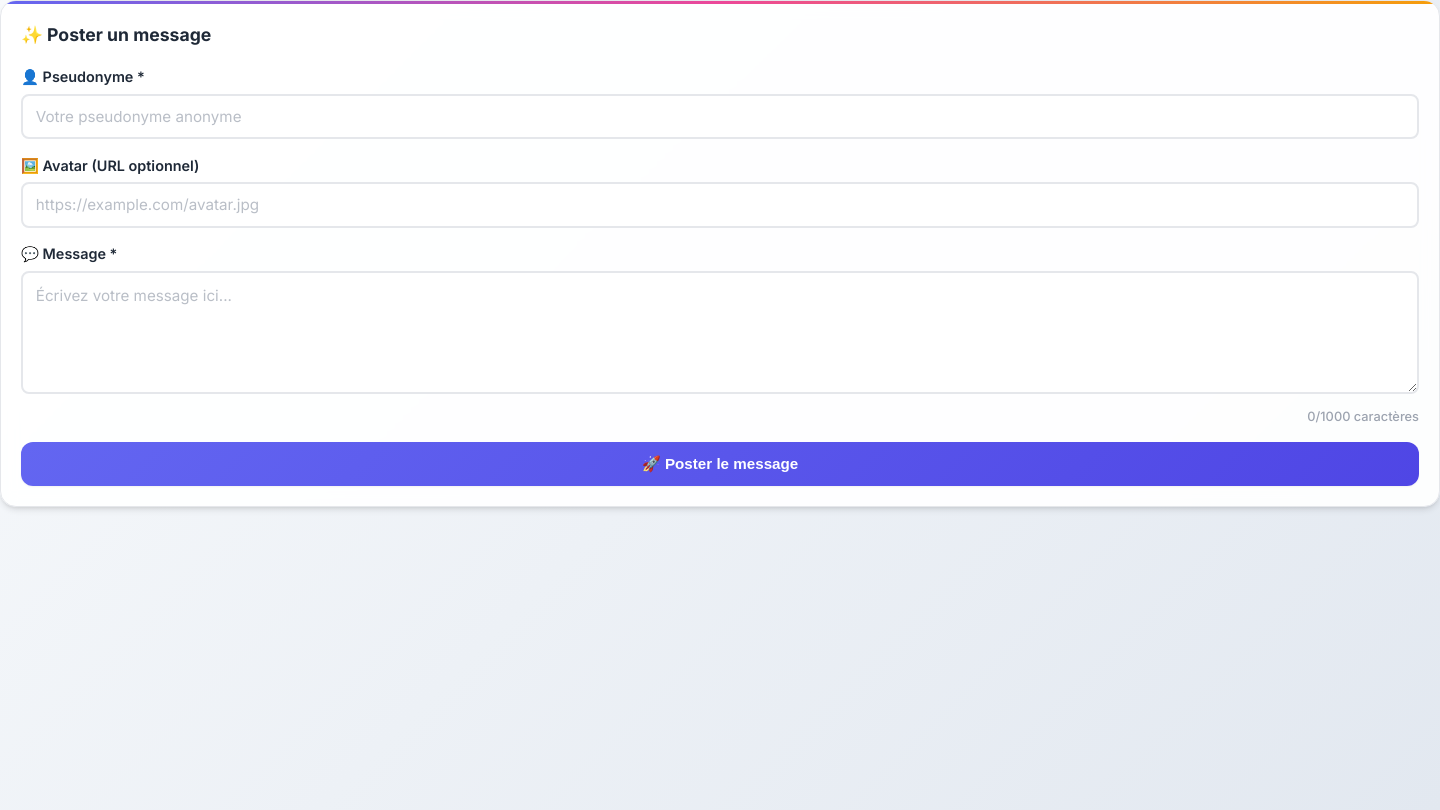
Test: MessageForm › shows validation error when pseudonym is missing
Click the button "🚀 Poster le message" at (720, 464), box [21, 442, 1419, 486]
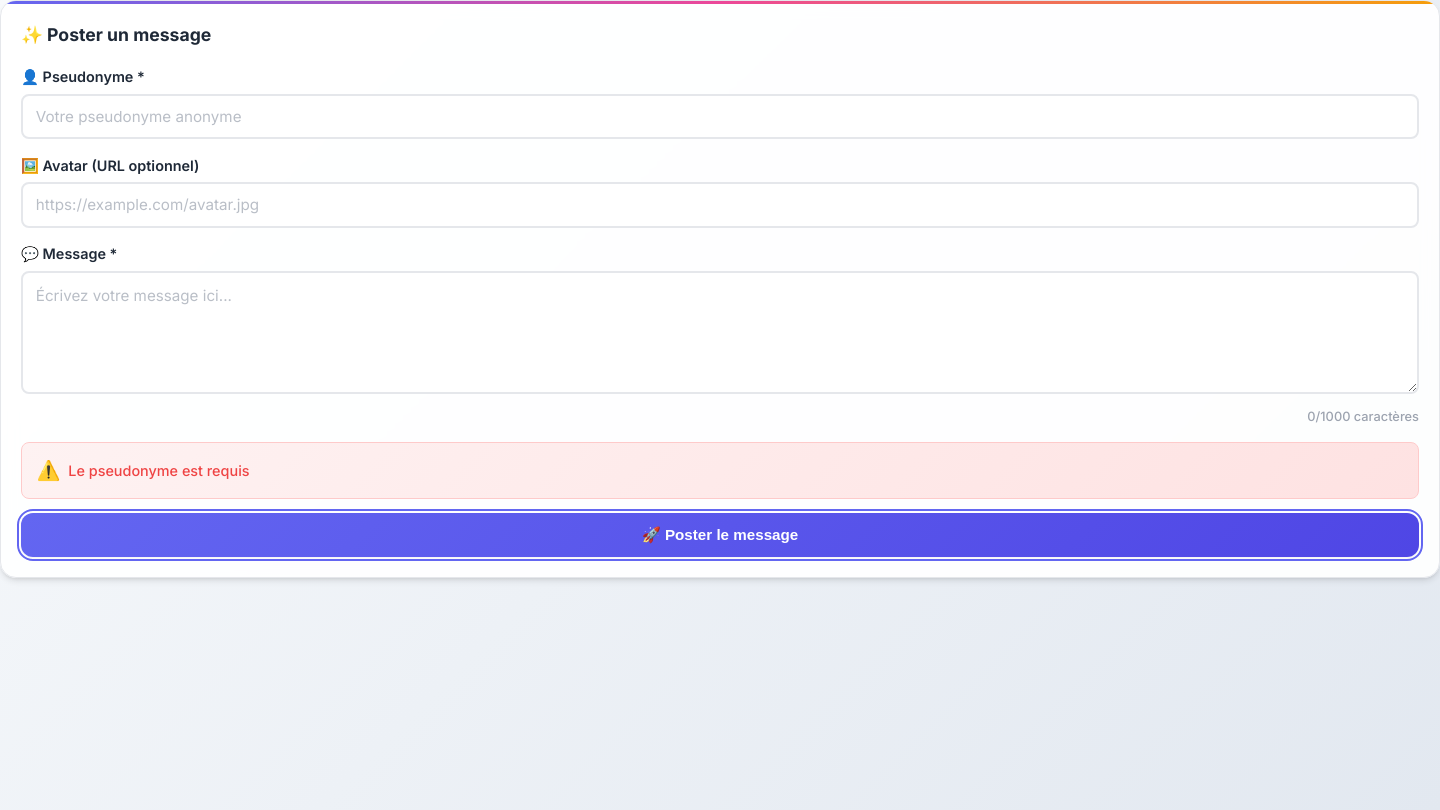
expect the text "Le pseudonyme est requis" is shown: met, box [21, 442, 1419, 499]
